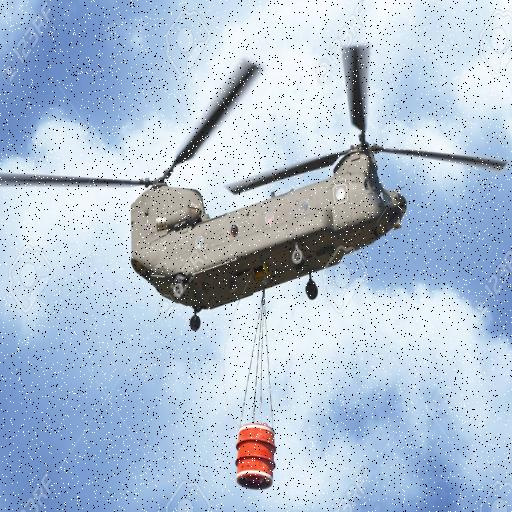helicopter: (1, 40, 505, 333)
